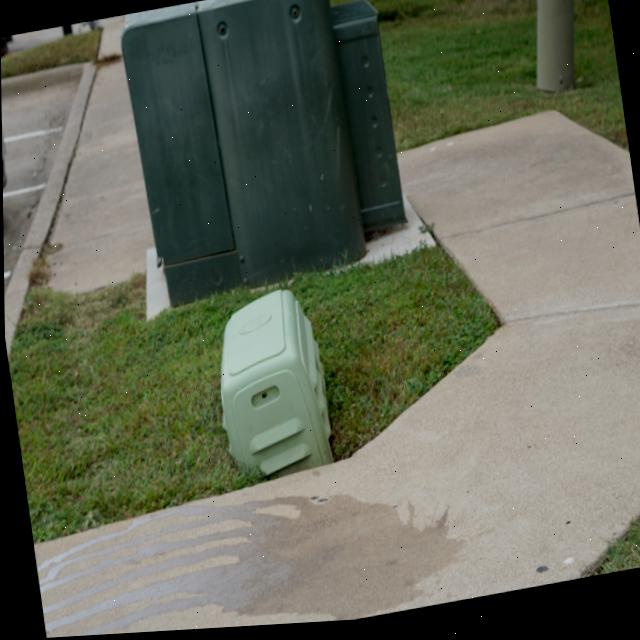Obstacle: (121, 0, 408, 309), (220, 293, 330, 477), (536, 0, 573, 98)
Road: (1, 66, 84, 271)
Sidewalk: (32, 118, 640, 638), (47, 58, 153, 293)
